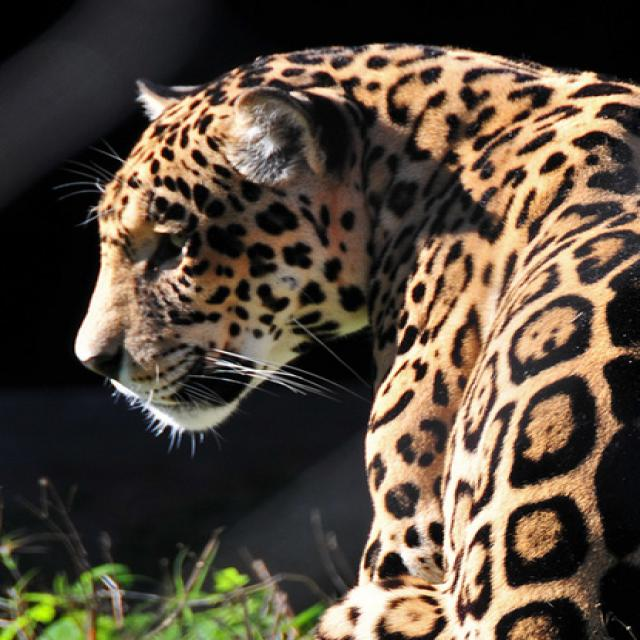Leopard: (48, 35, 635, 636)
